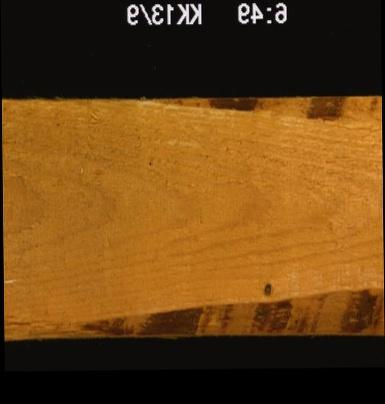small_knot: (259, 279, 275, 296)
wave: (2, 287, 382, 336), (136, 94, 380, 126)
